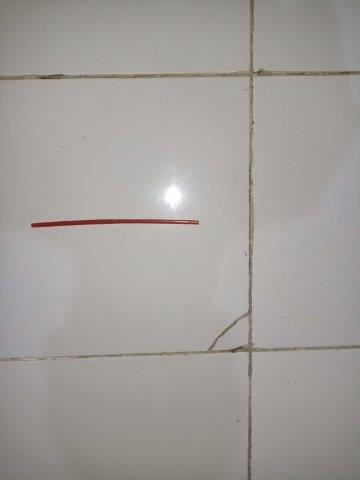sedotan: (32, 218, 199, 228)
